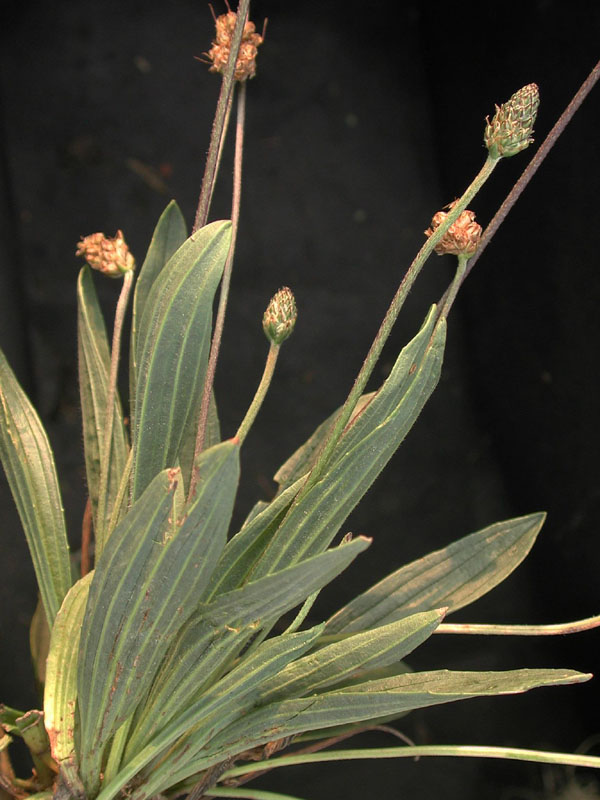buckhorn plantain: (30, 5, 579, 800)
